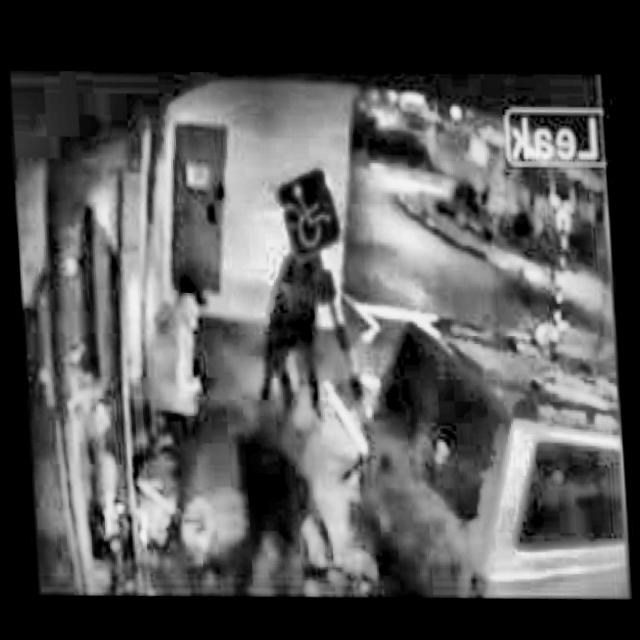burglary: (19, 209, 545, 617)
